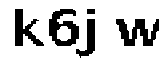6: (47, 6, 79, 47)
j: (77, 6, 106, 60)
k: (11, 3, 43, 49)
w: (111, 12, 160, 49)
